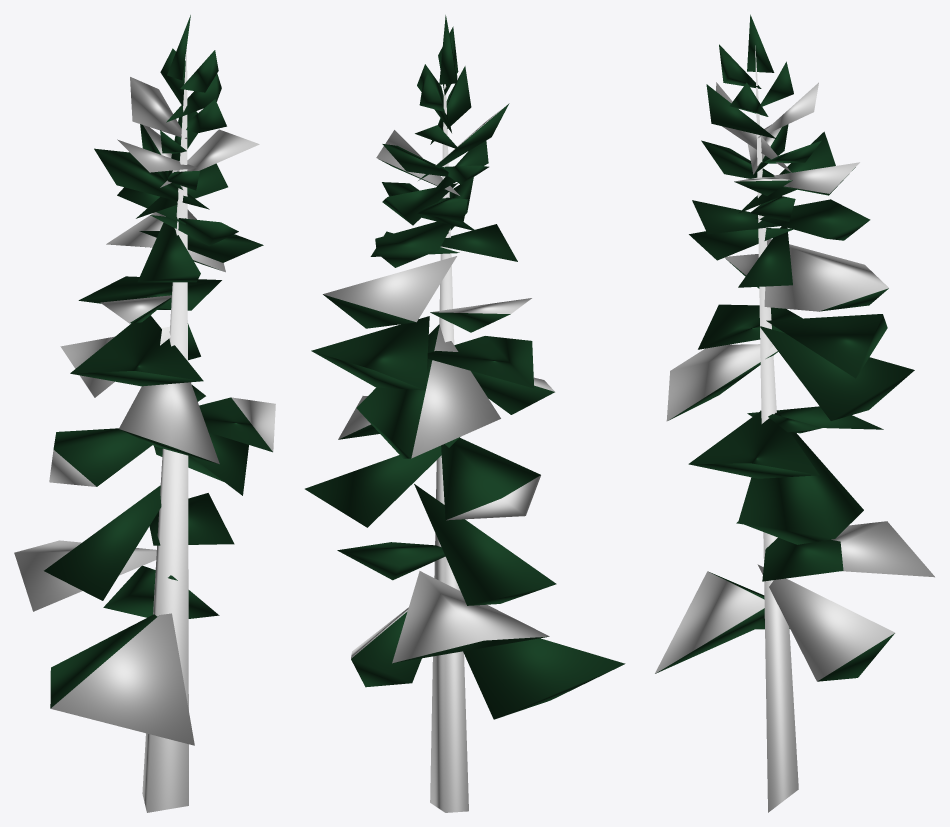
The model's file is pineBig1Snow_lowest.glb.
The picture shows the model from 3 angles, left to right: view 1: azimuth 30°, elevation 25°; view 2: azimuth 150°, elevation 25°; view 3: azimuth 270°, elevation 25°; orthographic projection. The views are drawn at different scales.
Parts seen in each view (by area): view 1: Cube.001; view 2: Cube.001; view 3: Cube.001.
Part boxes in pixels (box(x1,y1,x2,y2)): Cube.001: box(14, 15, 275, 812); Cube.001: box(305, 15, 625, 812); Cube.001: box(655, 14, 934, 812).
Bounding box in the file's own units: 17.26 × 49.99 × 16.01.
